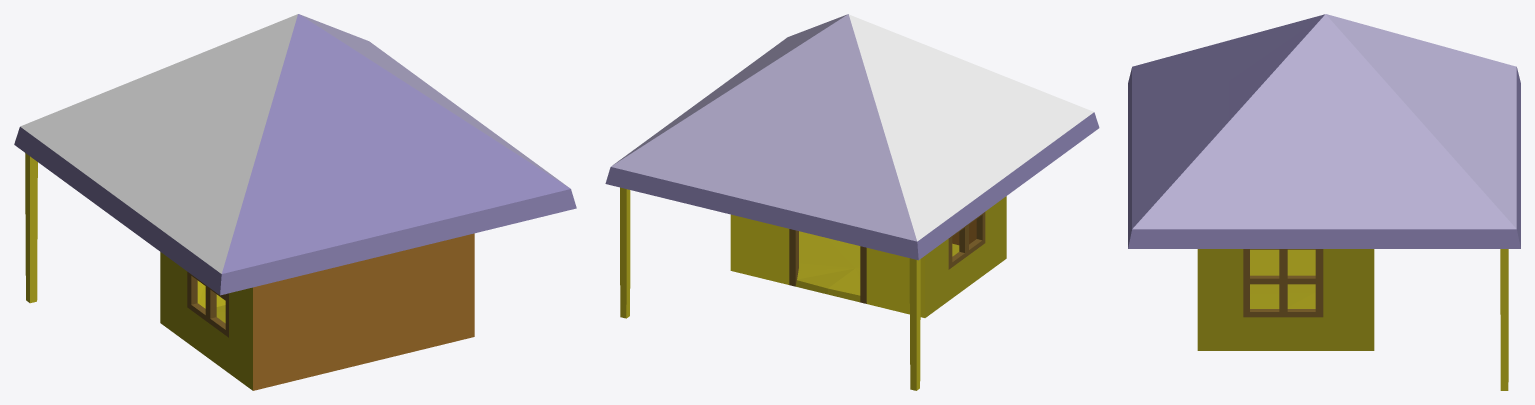
File: Casa2DespuesVolcan.glb
3 renders of one model, left to right at view 1: azimuth 30°, elevation 25°; view 2: azimuth 150°, elevation 25°; view 3: azimuth 270°, elevation 25°, orthographic. The views are drawn at different scales.
Parts seen in each view (by area): view 1: Plane, Cube; view 2: Plane, Cube; view 3: Plane, Cube.
Boxes of the visible parts, <box> form: Plane: <box>14,14,576,303</box>; Cube: <box>160,233,474,390</box>; Plane: <box>605,14,1099,390</box>; Cube: <box>730,196,1006,317</box>; Plane: <box>1128,14,1520,390</box>; Cube: <box>1197,249,1374,350</box>.
Bounding box in the file's own units: 51.41 × 43.39 × 51.41.
